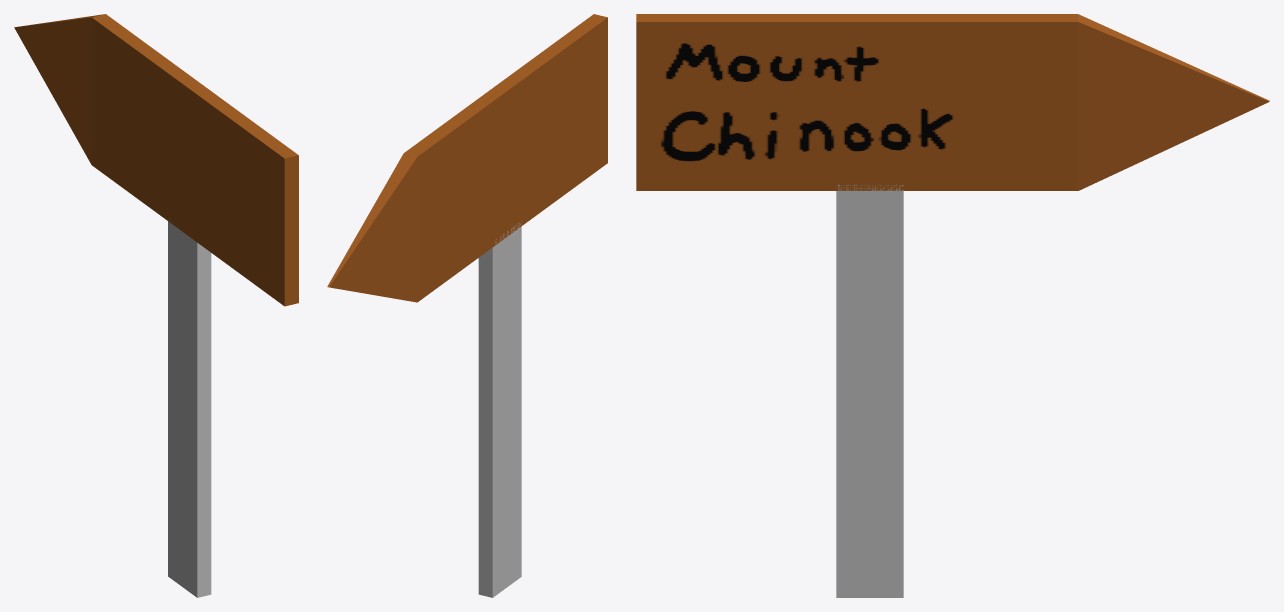
Rendered from Mount Chinook Sign.mtl.obj.
3 renders of one model, left to right at view 1: azimuth 30°, elevation 25°; view 2: azimuth 150°, elevation 25°; view 3: azimuth 270°, elevation 25°, orthographic. The views are drawn at different scales.
Visible parts, largest first — view 1: Cube; view 2: Cube; view 3: Cube.
Boxes of the visible parts, x1,y1,x2,y2 form: Cube: (14,14,298,597); Cube: (327,14,607,597); Cube: (636,14,1269,597).
Bounding box in the file's own units: 0.0997 × 3.4 × 3.39.
Materials: 2 (1 with a texture image).
